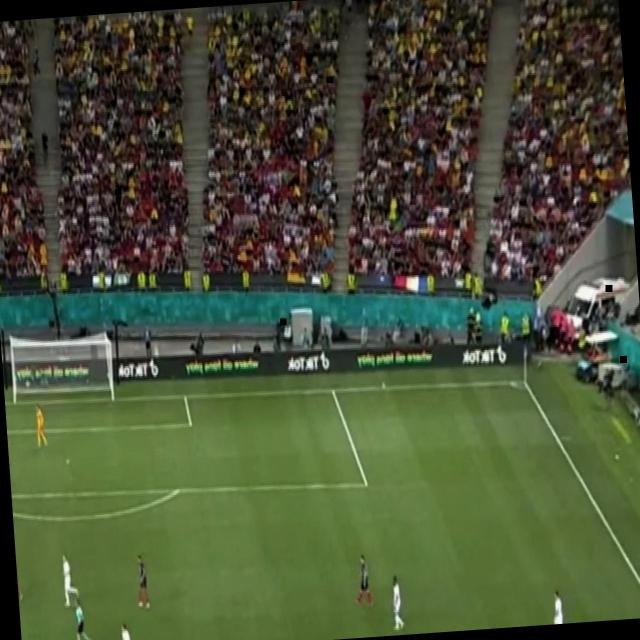player-white: (350, 551, 378, 615), (59, 547, 83, 611), (132, 550, 152, 614), (386, 573, 406, 635), (70, 593, 96, 640), (544, 585, 568, 625), (33, 402, 50, 452), (15, 544, 26, 602), (118, 617, 140, 640)
